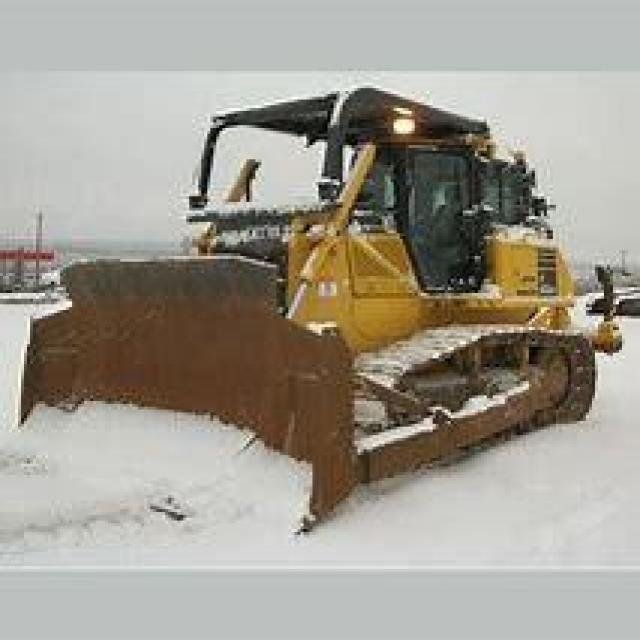Bulldozer: (21, 69, 637, 524)
